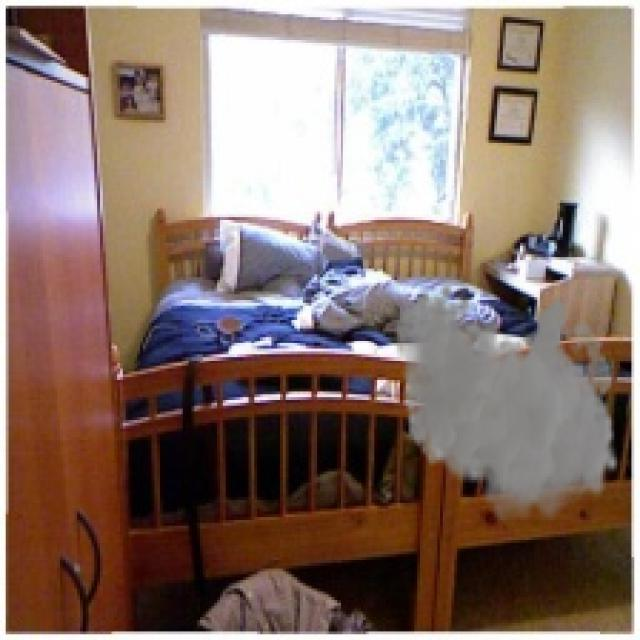smoke: (394, 283, 620, 531)
